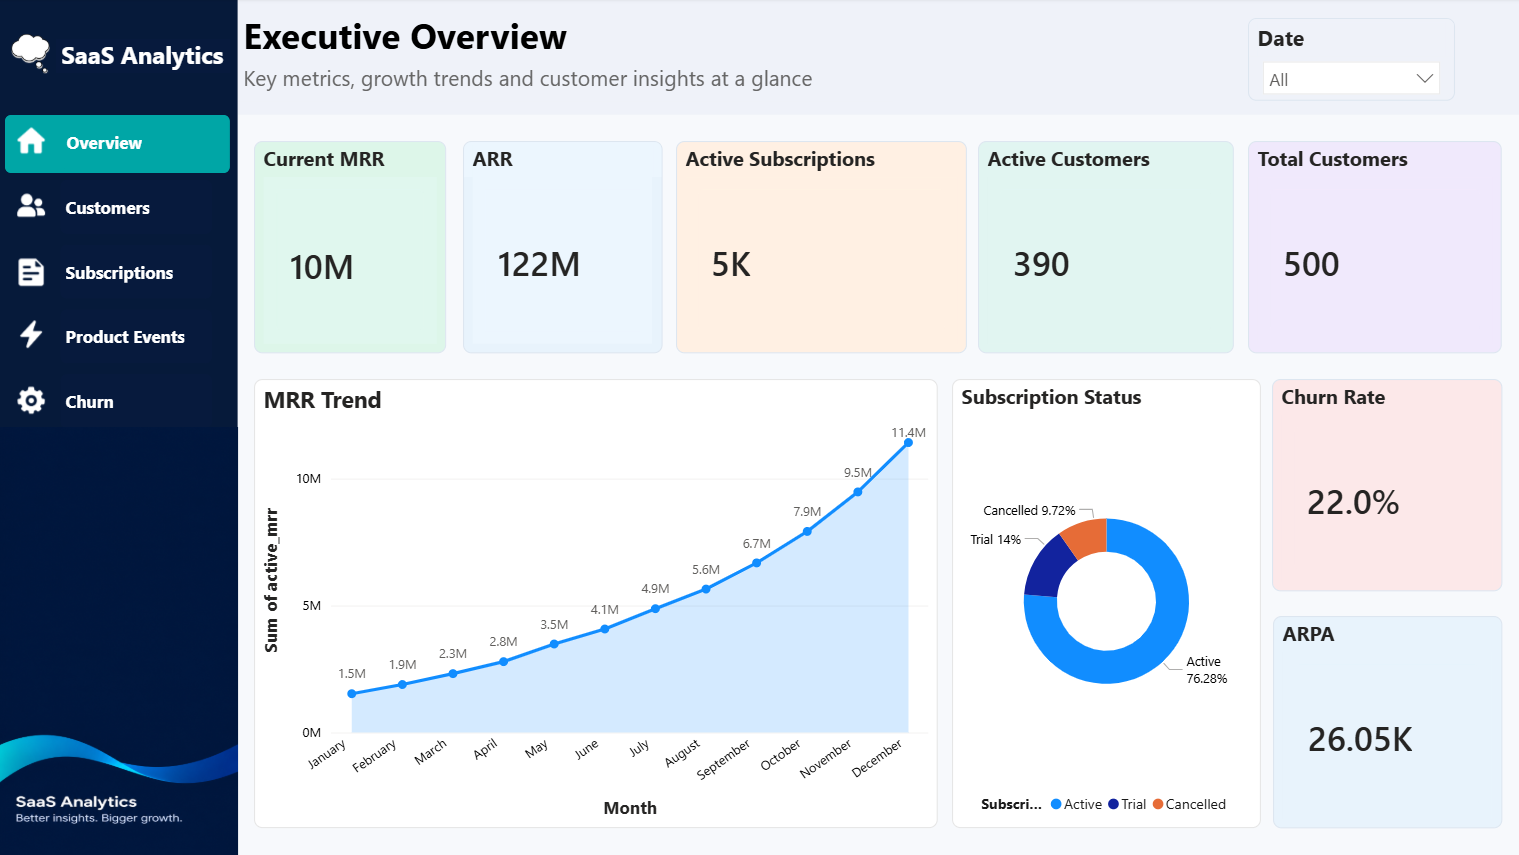

This screenshot's page, from the dashboard's own definition file:
{"tool":"powerbi","page":{"name":"Overview","canvas":[1440,810],"ordinal":0},"visuals":[{"type":"shape","box":[0,0,227.6,809.9],"z":0},{"type":"shape","box":[8.9,110.3,211.7,54.7],"z":1000},{"type":"pageNavigator","box":[40.7,110.3,164,295.2],"z":2000},{"type":"image","box":[8.9,33.8,47.7,36.8],"z":3000},{"type":"textbox","title":"SaaS Analytics","box":[56.6,38.8,164,31.8],"z":4000},{"type":"actionButton","box":[13.9,110.3,100.4,48.7],"z":5000},{"type":"actionButton","box":[13.9,174.9,100.4,39.8],"z":6000},{"type":"actionButton","box":[13.9,238.5,100.4,39.8],"z":7000},{"type":"actionButton","box":[13.9,358.8,100.4,39.8],"z":9000},{"type":"image","box":[0,404.5,227.7,405.6],"z":10000},{"type":"textbox","box":[228.2,0,1211.8,110.2],"z":11000},{"type":"textbox","title":"Executive Overview","box":[228.2,12.4,617.1,85.4],"z":12000},{"type":"slicer","title":"Date","fields":{"Values":["account_360.signup_date.Variation.Date Hierarchy.Year","account_360.signup_date.Variation.Date Hierarchy.Month"]},"box":[1179.3,19,194.7,78.3],"z":13000},{"type":"cardVisual","title":"Current MRR","fields":{"Data":["monthly_mrr.Current MRR"]},"box":[242.8,134.3,181.3,200],"z":14000},{"type":"cardVisual","title":"ARR","fields":{"Data":["account_360.ARR2"]},"box":[439.7,134.3,188,200.3],"z":15000},{"type":"cardVisual","title":"Active Customers","fields":{"Data":["kpis.Active Customers"]},"box":[925.3,134.3,240.6,200.3],"z":16000},{"type":"cardVisual","title":"Total Customers","fields":{"Data":["kpis.Total Customers"]},"box":[1179.3,134.3,239,200.3],"z":17000},{"type":"cardVisual","title":"Active Subscriptions","fields":{"Data":["kpis.Active Subscriptions"]},"box":[640,134.3,274.1,200.3],"z":18000},{"type":"cardVisual","title":"Churn Rate","fields":{"Data":["kpis.Churn Rate"]},"box":[1201.7,359.2,217.1,200.3],"z":19000},{"type":"cardVisual","title":"ARPA","fields":{"Data":["kpis.ARPA"]},"box":[1202.8,581.8,215.9,200.3],"z":20000},{"type":"lineChart","title":"MRR Trend","fields":{"Y":["Sum(monthly_mrr.active_mrr)"],"Category":["monthly_mrr.month_start.Variation.Date Hierarchy.Month"]},"box":[242.8,359.2,644.5,422.9],"z":21000},{"type":"donutChart","title":"Subscription Status","fields":{"Y":["subscriptions.Total Subscriptions2"],"Category":["subscriptions.Subscription Status"]},"box":[900.7,359.2,290.9,422.9],"z":22000},{"type":"actionButton","box":[14.1,296.4,100.8,39.8],"z":22001}]}

Visuals, with their boxes in screenshot pixels (x1, y1, x2, y2), scaled from the page's 1440x810 canvas onto the 1519x855 screenshot:
shape: 0/0/240/854
shape: 9/116/233/174
pageNavigator: 43/116/216/428
image: 9/36/60/75
"SaaS Analytics" textbox: 60/41/233/75
actionButton: 15/116/121/168
actionButton: 15/185/121/227
actionButton: 15/252/121/294
actionButton: 15/379/121/421
image: 0/427/240/854
textbox: 241/0/1518/116
"Executive Overview" textbox: 241/13/892/103
"Date" slicer: 1244/20/1449/103
"Current MRR" cardVisual: 256/142/447/353
"ARR" cardVisual: 464/142/662/353
"Active Customers" cardVisual: 976/142/1230/353
"Total Customers" cardVisual: 1244/142/1496/353
"Active Subscriptions" cardVisual: 675/142/964/353
"Churn Rate" cardVisual: 1268/379/1497/591
"ARPA" cardVisual: 1269/614/1497/826
"MRR Trend" lineChart: 256/379/936/826
"Subscription Status" donutChart: 950/379/1257/826
actionButton: 15/313/121/355
